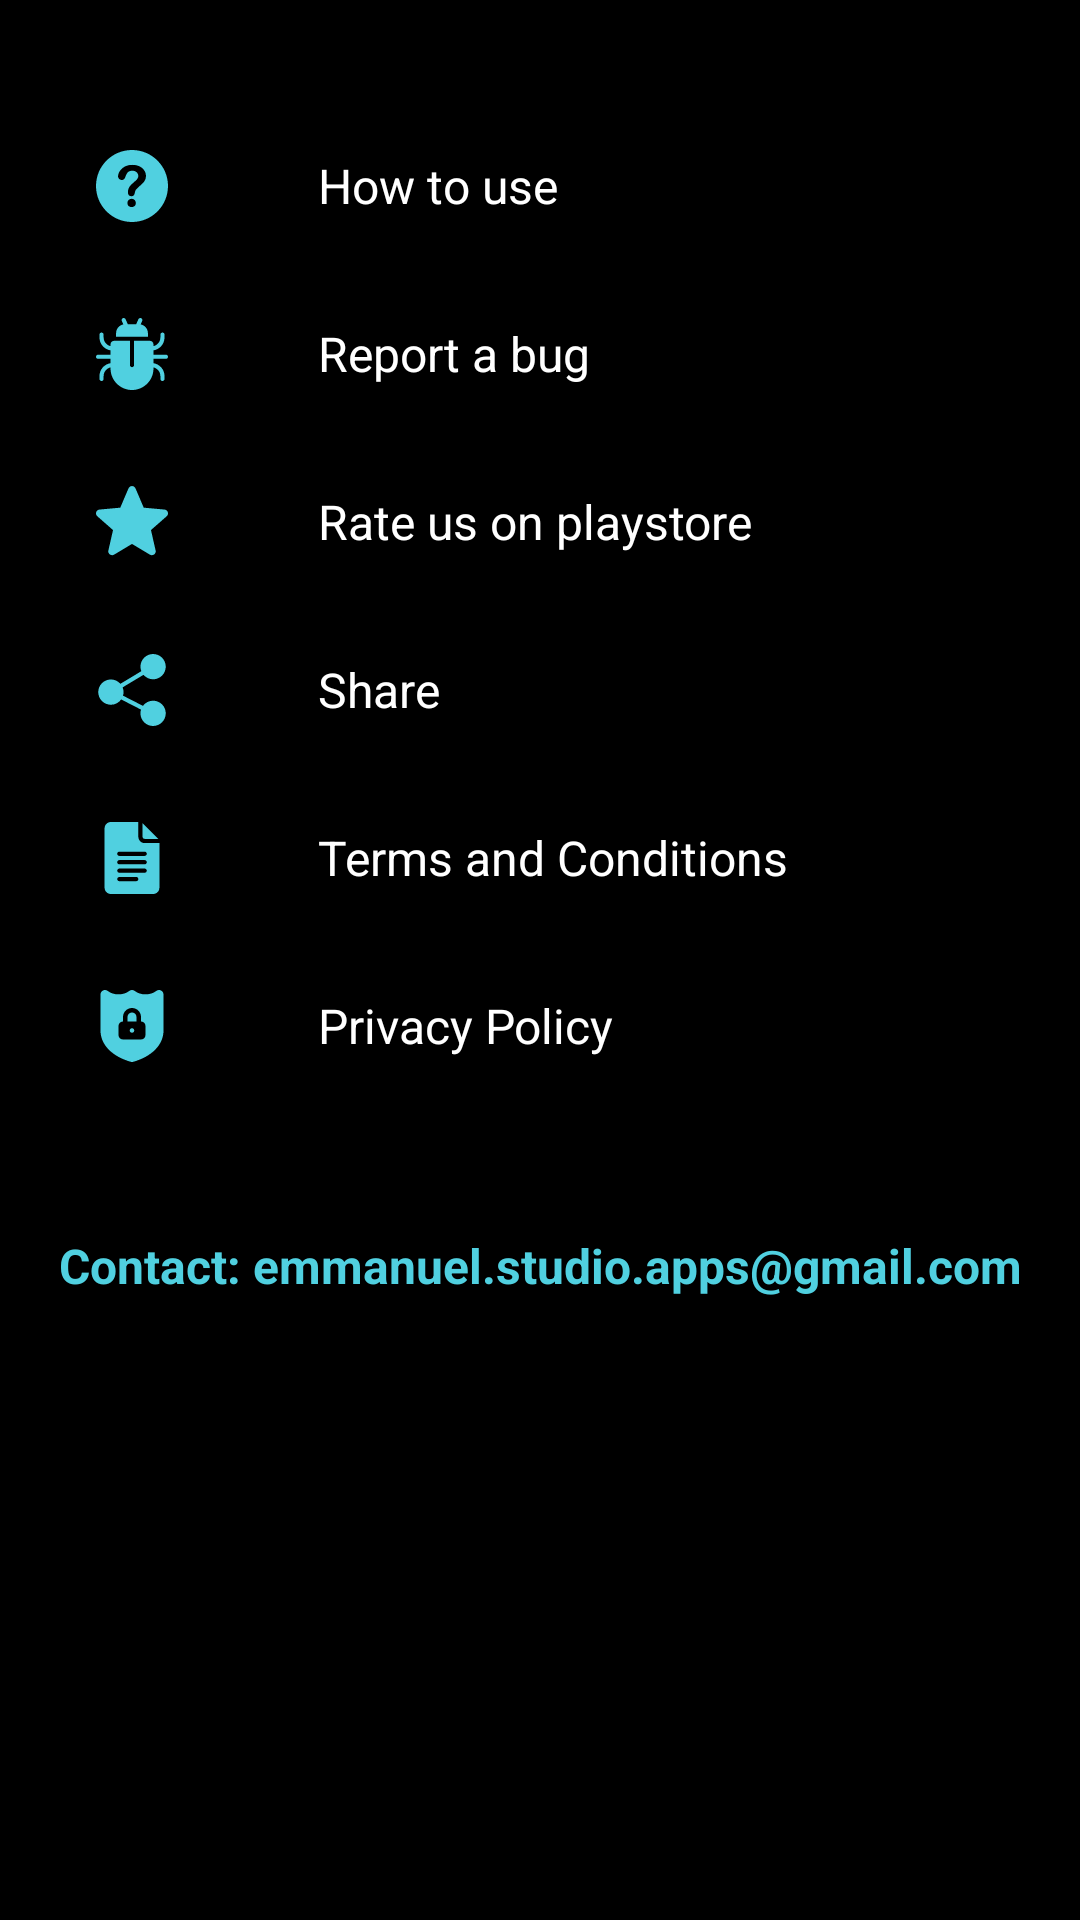

Where icons sit on this 1080px x 1920px app screen, as (left=x1, top=y1, right=x2, bottom=y2):
help web: (left=96, top=150, right=168, bottom=222)
shield with lock: (left=100, top=990, right=164, bottom=1062)
